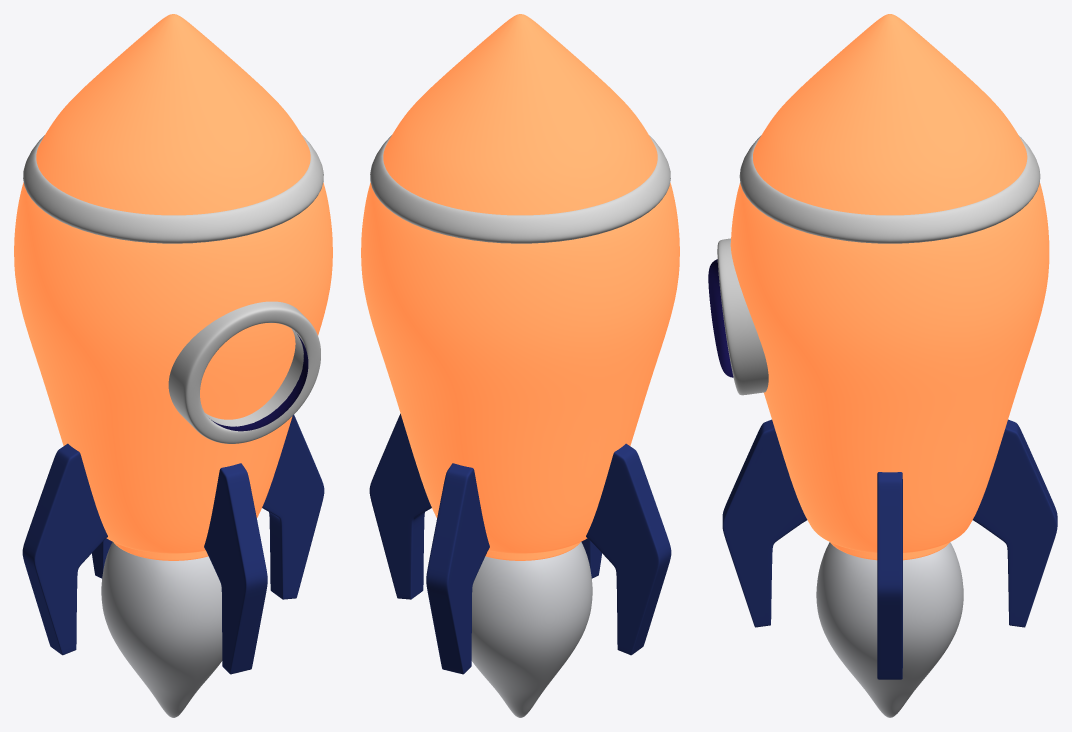
Rendered from rocket.compressed.glb.
The picture shows the model from 3 angles, left to right: view 1: azimuth 30°, elevation 25°; view 2: azimuth 150°, elevation 25°; view 3: azimuth 270°, elevation 25°; orthographic projection.
Visible parts, largest first — view 1: Cylinder018, Cylinder018_3, Cylinder018_2, Cylinder018_4, Cylinder018_1; view 2: Cylinder018, Cylinder018_3, Cylinder018_4, Cylinder018_2; view 3: Cylinder018, Cylinder018_3, Cylinder018_4, Cylinder018_2, Cylinder018_1.
Boxes of the visible parts, x1=… form: Cylinder018: x1=14, y1=14, x2=332, y2=560; Cylinder018_3: x1=22, y1=415, x2=324, y2=674; Cylinder018_2: x1=23, y1=135, x2=323, y2=443; Cylinder018_4: x1=101, y1=542, x2=222, y2=717; Cylinder018_1: x1=211, y1=334, x2=308, y2=431; Cylinder018: x1=361, y1=14, x2=679, y2=560; Cylinder018_3: x1=369, y1=413, x2=671, y2=674; Cylinder018_4: x1=471, y1=542, x2=592, y2=717; Cylinder018_2: x1=370, y1=135, x2=670, y2=243; Cylinder018: x1=730, y1=14, x2=1049, y2=560; Cylinder018_3: x1=722, y1=419, x2=1057, y2=679; Cylinder018_4: x1=816, y1=542, x2=963, y2=717; Cylinder018_2: x1=717, y1=135, x2=1040, y2=395; Cylinder018_1: x1=708, y1=259, x2=733, y2=377.
Bounding box in the file's own units: 0.8393 × 1.94 × 0.8746.
